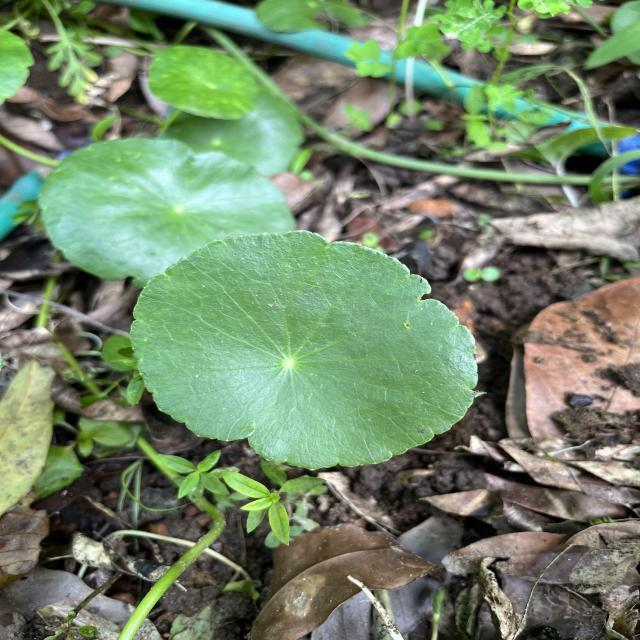Bacopa monnieri: (127, 228, 481, 474)
